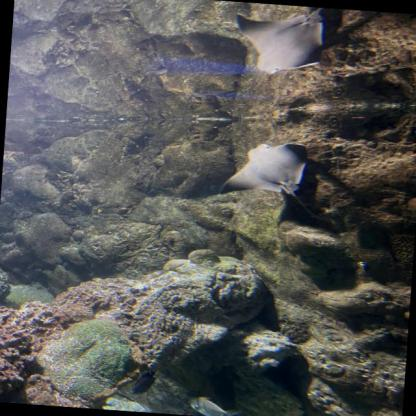fish: (186, 396, 241, 415), (129, 368, 158, 396)
stingray: (232, 8, 325, 78), (219, 138, 308, 201)
